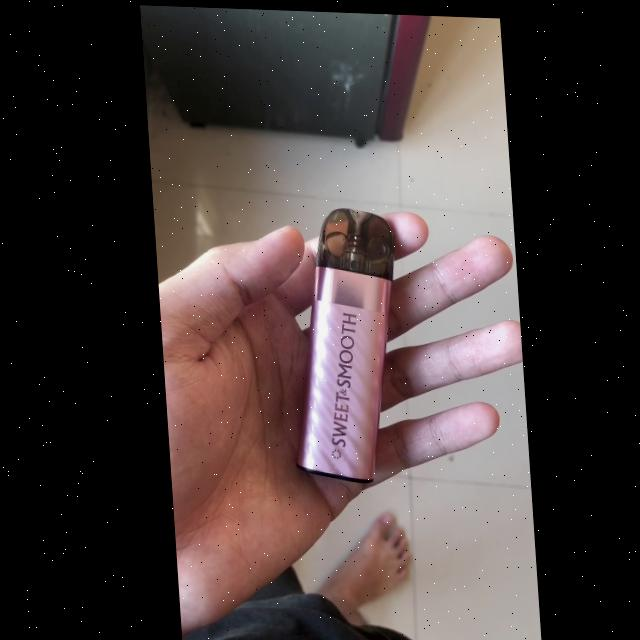vape: (275, 199, 410, 484)
